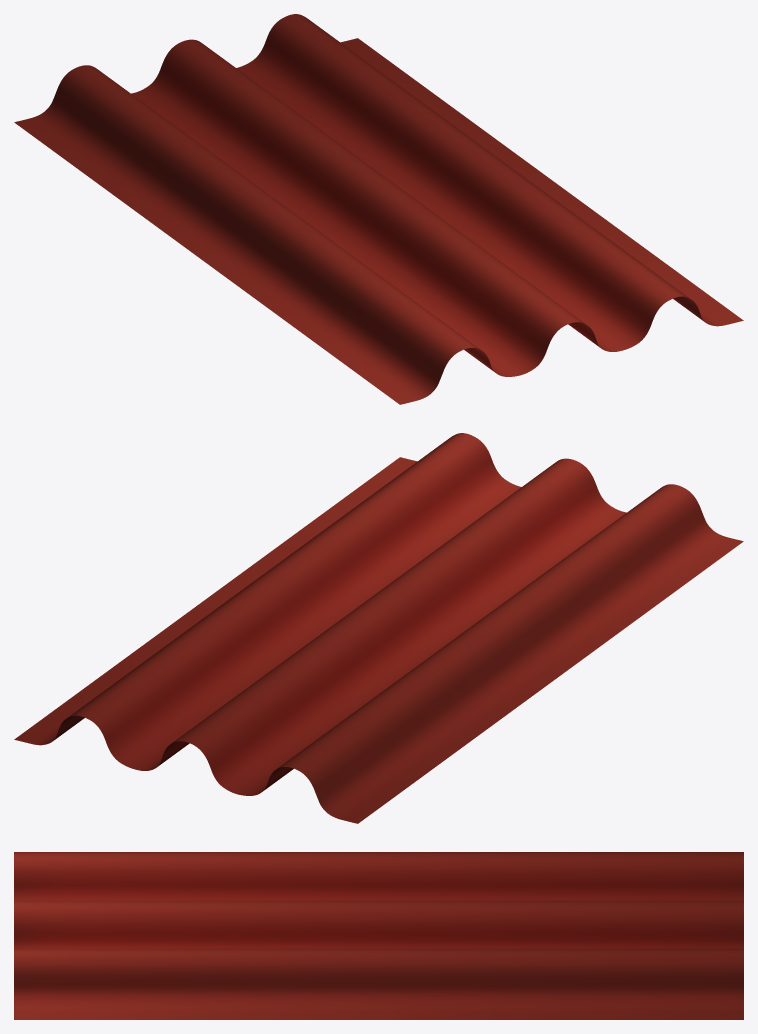
Rendered from Antares.glb.
3 views of the same model, one above another, from view 1: azimuth 30°, elevation 25°; view 2: azimuth 150°, elevation 25°; view 3: azimuth 270°, elevation 25° (orthographic). The views are drawn at different scales.
Visible parts, largest first — view 1: Plane.001; view 2: Plane.001; view 3: Plane.001.
Boxes of the visible parts, x1,y1,x2,y2 form: Plane.001: [14, 14, 743, 404]; Plane.001: [14, 433, 743, 823]; Plane.001: [14, 852, 743, 1019].
Size of the model in its own units: 0.2572 by 0.0286 by 0.5.
1 material, 1 textured.
